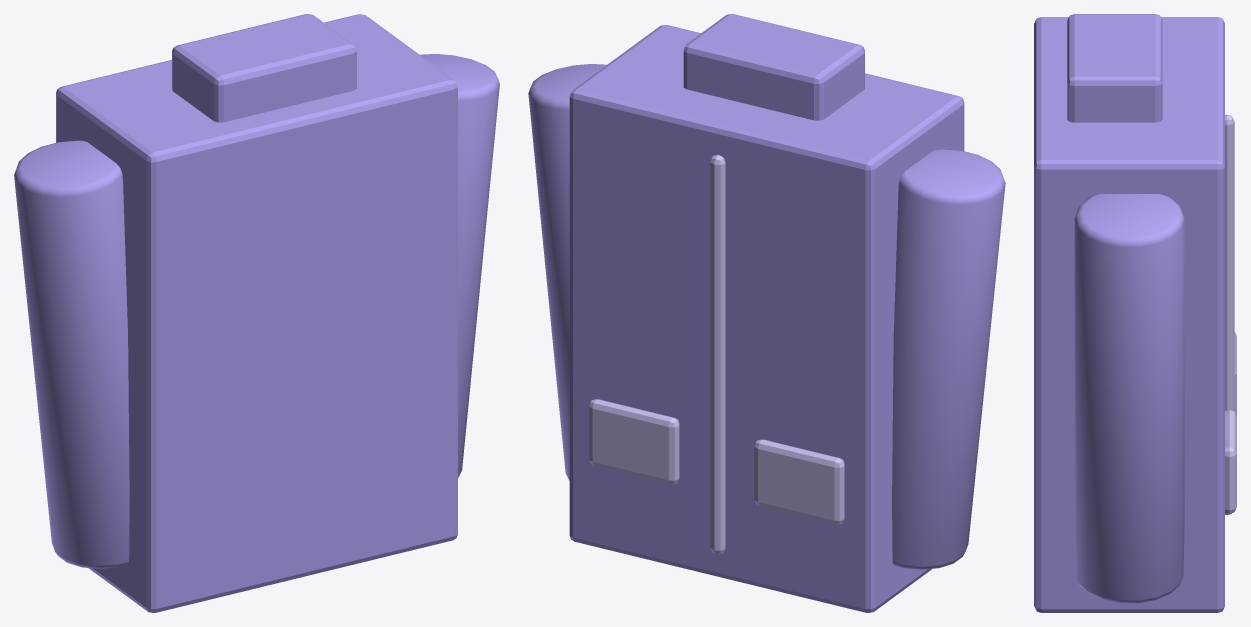
File: VM-CAB-008.glb
The picture shows the model from 3 angles, left to right: view 1: azimuth 30°, elevation 25°; view 2: azimuth 150°, elevation 25°; view 3: azimuth 270°, elevation 25°; orthographic projection.
Visible parts, largest first — view 1: Chaqueta Bomber Satinada; view 2: Chaqueta Bomber Satinada; view 3: Chaqueta Bomber Satinada.
Part boxes in pixels (<box>): Chaqueta Bomber Satinada: <box>14,14,499,612</box>; Chaqueta Bomber Satinada: <box>528,14,1005,612</box>; Chaqueta Bomber Satinada: <box>1034,14,1236,612</box>.
Bounding box in the file's own units: 0.7685 × 0.7892 × 0.2924.
